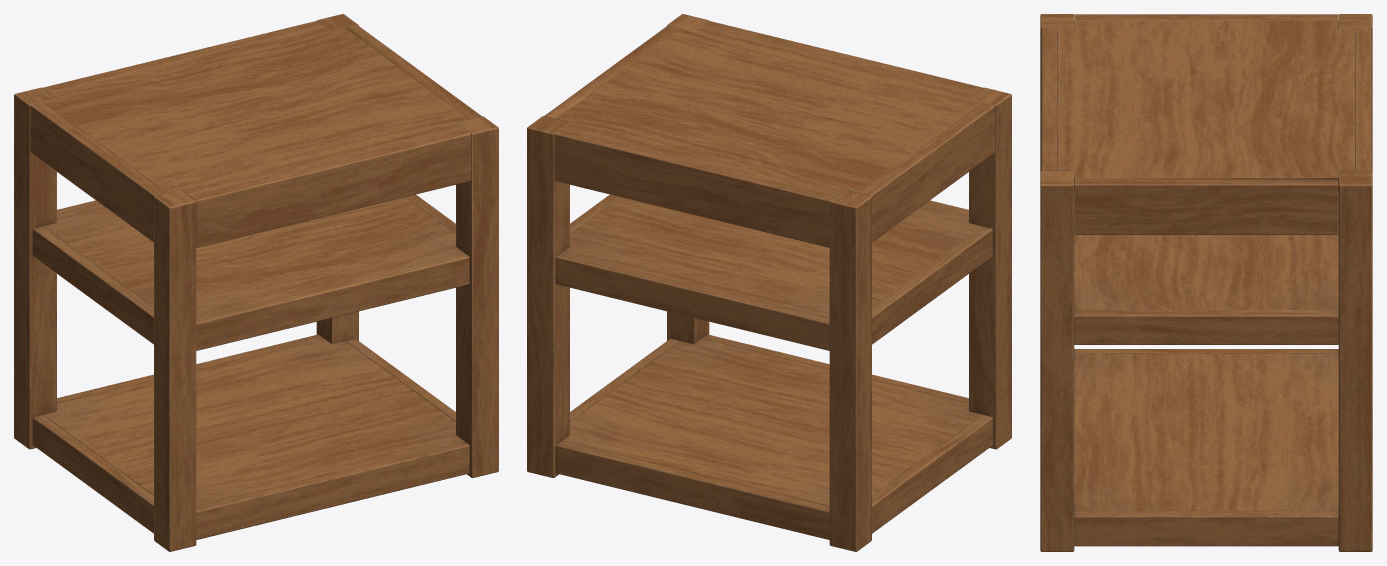
Rendered from oak-side-table.glb.
The picture shows the model from 3 angles, left to right: view 1: azimuth 30°, elevation 25°; view 2: azimuth 150°, elevation 25°; view 3: azimuth 270°, elevation 25°; orthographic projection. The views are drawn at different scales.
Parts seen in each view (by area): view 1: oak-side-table__part__side-table-01; view 2: oak-side-table__part__side-table-01; view 3: oak-side-table__part__side-table-01.
Boxes of the visible parts, x1,y1,x2,y2 form: oak-side-table__part__side-table-01: (14, 14, 498, 551); oak-side-table__part__side-table-01: (527, 14, 1011, 551); oak-side-table__part__side-table-01: (1040, 14, 1372, 551).
Bounding box in the file's own units: 0.55 × 0.5507 × 0.45.
1 material, 1 textured.
